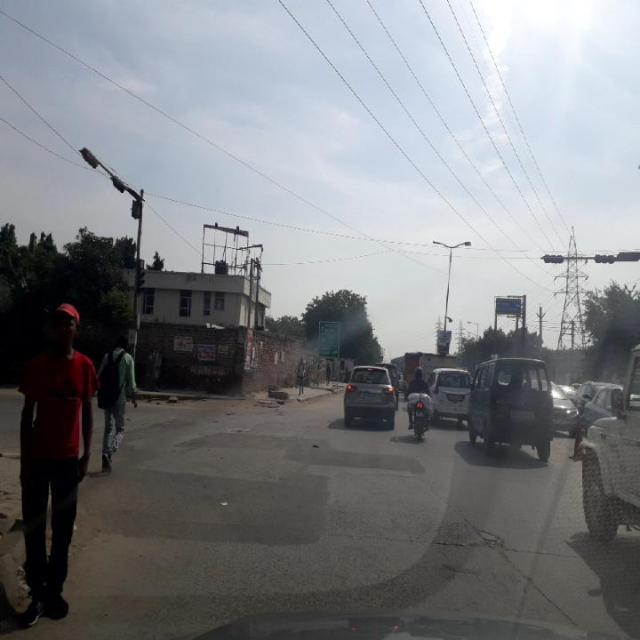D01: (464, 521, 580, 623)
D11: (322, 521, 594, 569)
D40: (460, 513, 514, 557)
